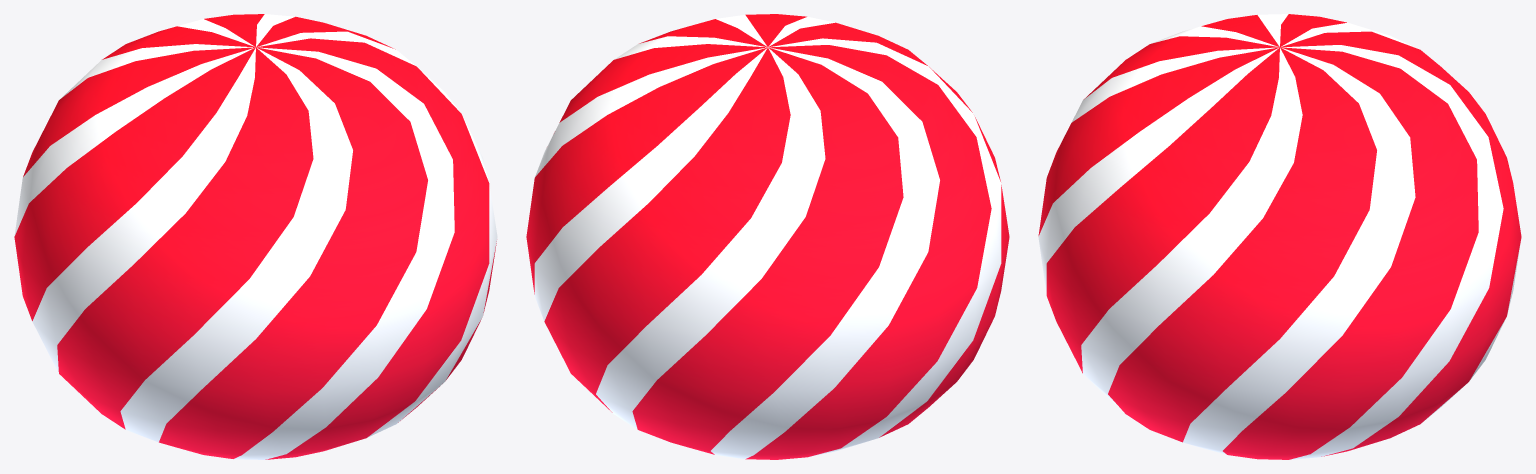
The model's file is Lollipop_11.glb.
3 renders of one model, left to right at view 1: azimuth 30°, elevation 25°; view 2: azimuth 150°, elevation 25°; view 3: azimuth 270°, elevation 25°, orthographic.
Parts seen in each view (by area): view 1: Lollipop_11; view 2: Lollipop_11; view 3: Lollipop_11.
Boxes of the visible parts, left/top/right/bottom form: Lollipop_11: left=14, top=14, right=497, bottom=459; Lollipop_11: left=526, top=14, right=1009, bottom=459; Lollipop_11: left=1038, top=14, right=1521, bottom=459.
Size of the model in its own units: 2.1 by 1.82 by 2.1.
Materials: 1 (1 with a texture image).
